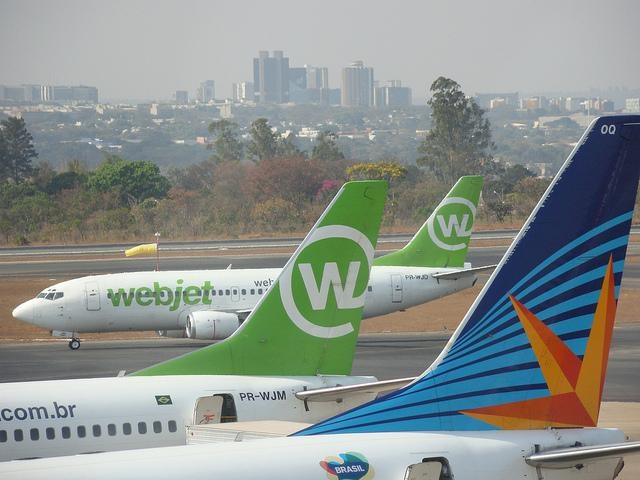airplane: (10, 162, 489, 347)
